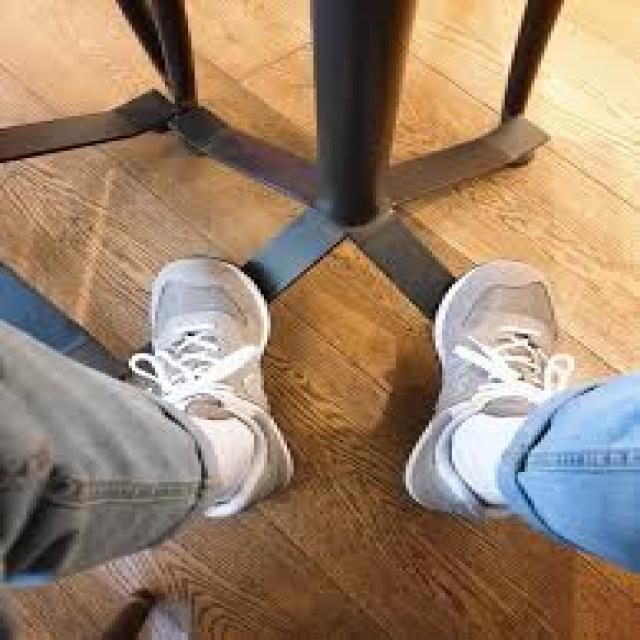shoe: (121, 252, 310, 526), (389, 247, 567, 529)
